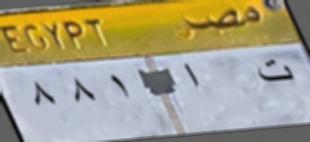1: (105, 72, 133, 104)
8: (25, 75, 57, 115), (70, 75, 97, 107)
alif: (180, 59, 203, 92)
taa: (255, 57, 297, 90)
